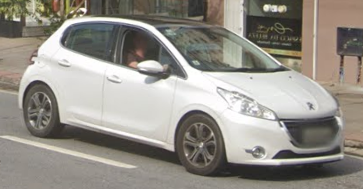car: (18, 14, 344, 177)
